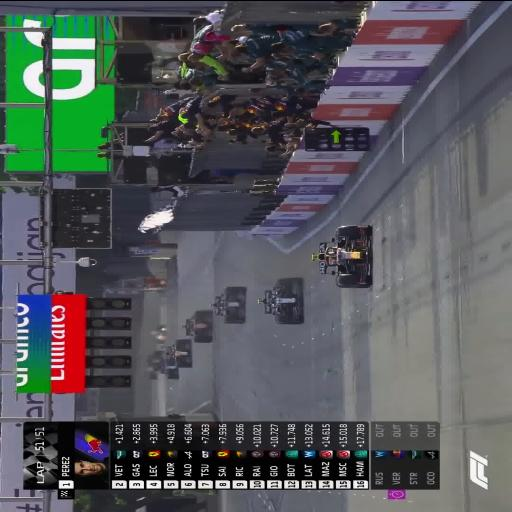f1_car: (312, 224, 371, 287), (258, 277, 303, 323), (211, 286, 246, 323), (183, 310, 212, 342), (148, 349, 178, 378), (164, 339, 191, 367)
